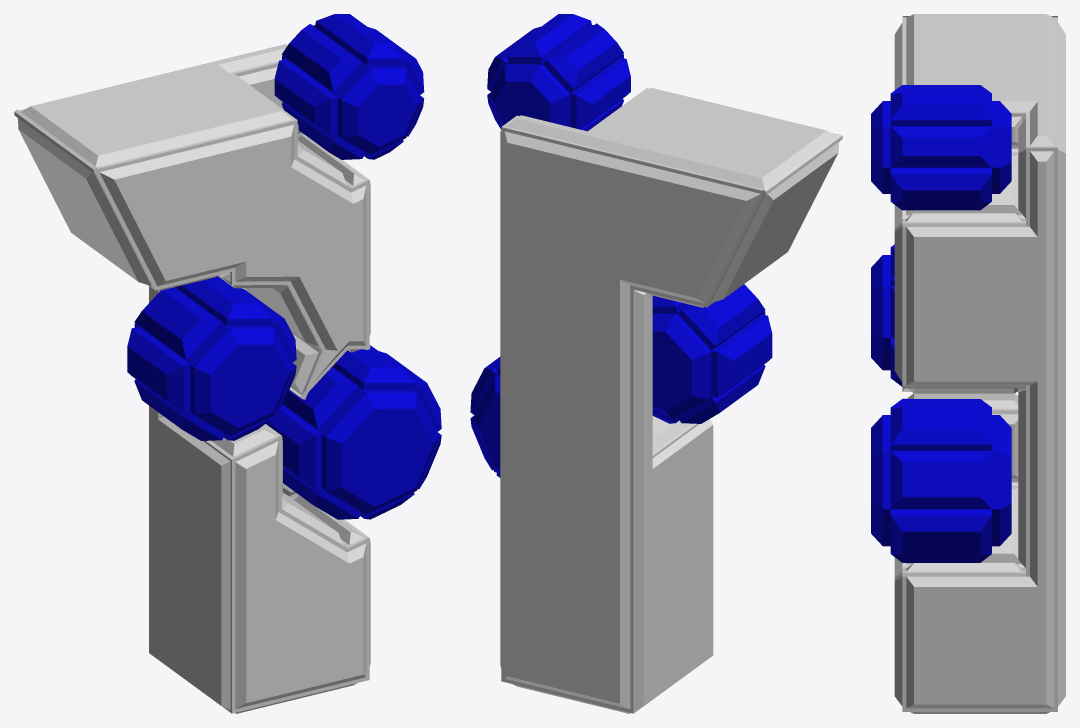
The picture shows the model from 3 angles, left to right: view 1: azimuth 30°, elevation 25°; view 2: azimuth 150°, elevation 25°; view 3: azimuth 270°, elevation 25°; orthographic projection. The views are drawn at different scales.
Parts seen in each view (by area): view 1: sphere1; view 2: sphere1; view 3: sphere1.
Boxes of the visible parts, x1,y1,x2,y2 form: sphere1: [14, 14, 441, 713]; sphere1: [470, 14, 842, 713]; sphere1: [871, 14, 1065, 713].
Size of the model in its own units: 0.5051 by 0.8906 by 0.2503.
